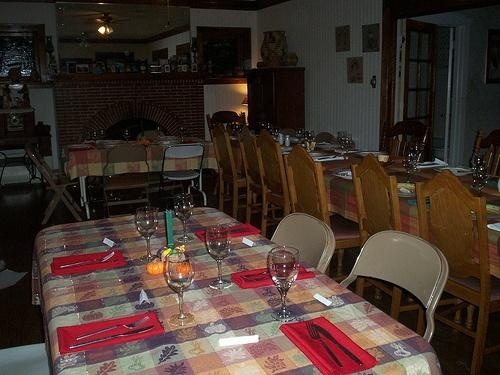chair: (414, 171, 500, 374), (347, 153, 426, 330), (340, 230, 451, 344), (282, 142, 358, 278), (24, 143, 85, 223), (254, 131, 292, 242), (271, 213, 336, 276), (99, 144, 151, 216), (207, 126, 245, 223), (160, 142, 210, 208), (237, 127, 268, 230), (381, 120, 433, 158), (470, 125, 500, 184), (205, 108, 249, 134)
diningtable: (33, 206, 445, 375), (62, 128, 500, 285)
